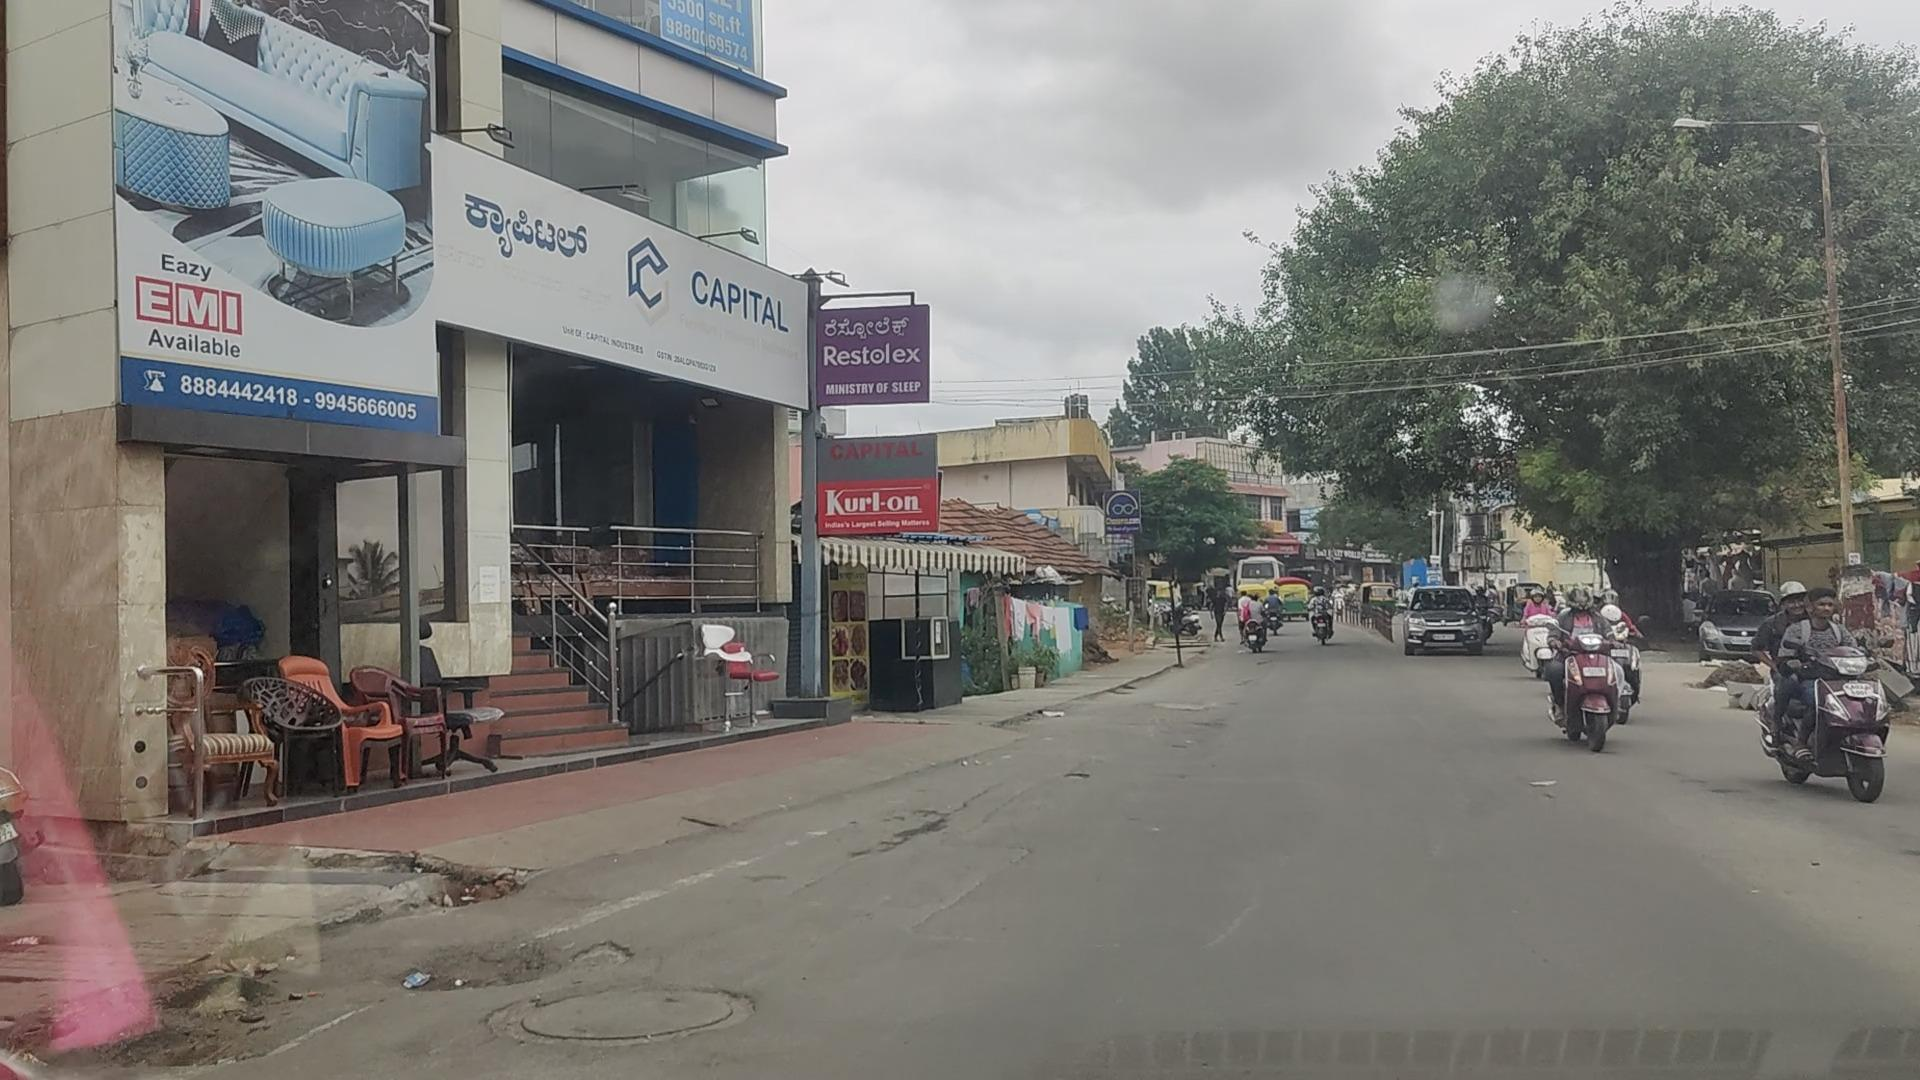RoadDamages: (73, 956, 301, 1080), (487, 985, 765, 1062), (910, 824, 1042, 956), (372, 920, 545, 993), (1149, 696, 1222, 753), (568, 936, 637, 971), (1058, 760, 1091, 789)
